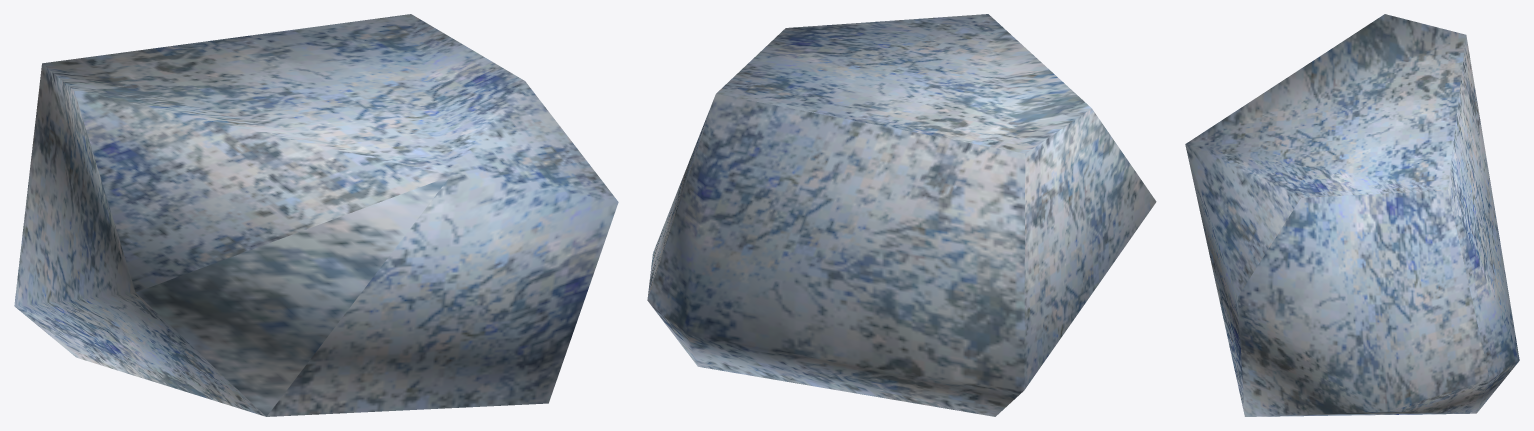
File: asteroid_ice_radial_s03_l3.fbx
3 renders of one model, left to right at view 1: azimuth 30°, elevation 25°; view 2: azimuth 150°, elevation 25°; view 3: azimuth 270°, elevation 25°, orthographic. The views are drawn at different scales.
Parts seen in each view (by area): view 1: mesh_node; view 2: mesh_node; view 3: mesh_node.
Boxes of the visible parts, left/top/right/bottom form: mesh_node: left=14, top=14, right=618, bottom=416; mesh_node: left=647, top=14, right=1156, bottom=416; mesh_node: left=1185, top=14, right=1519, bottom=416.
Size of the model in its own units: 4.42 by 2.9 by 3.39.
